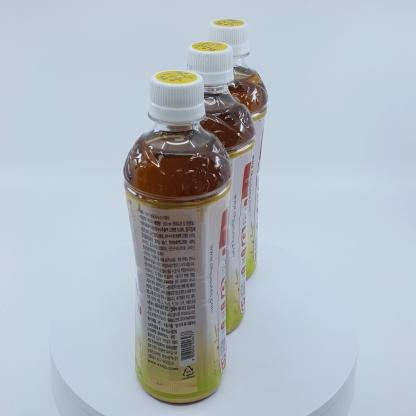---------500ML: (122, 69, 234, 404)
